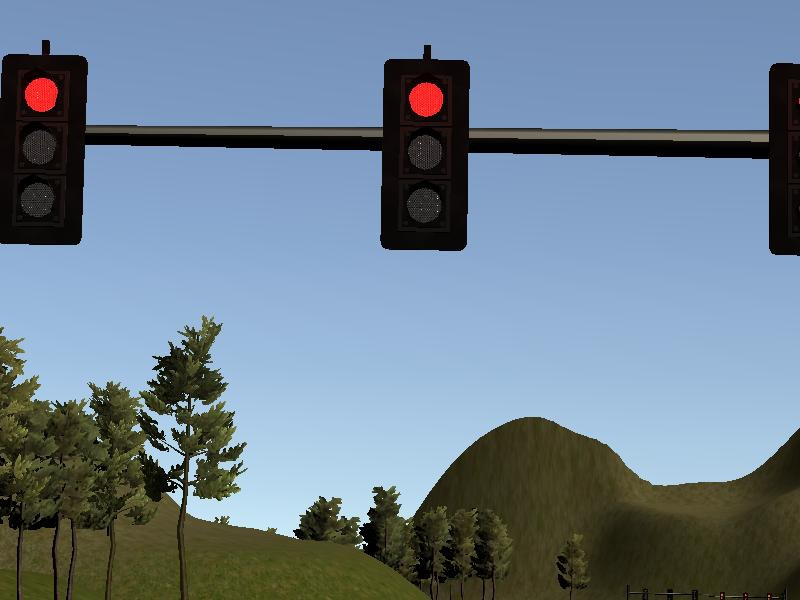red_light: (381, 61, 468, 253), (2, 58, 89, 248)
